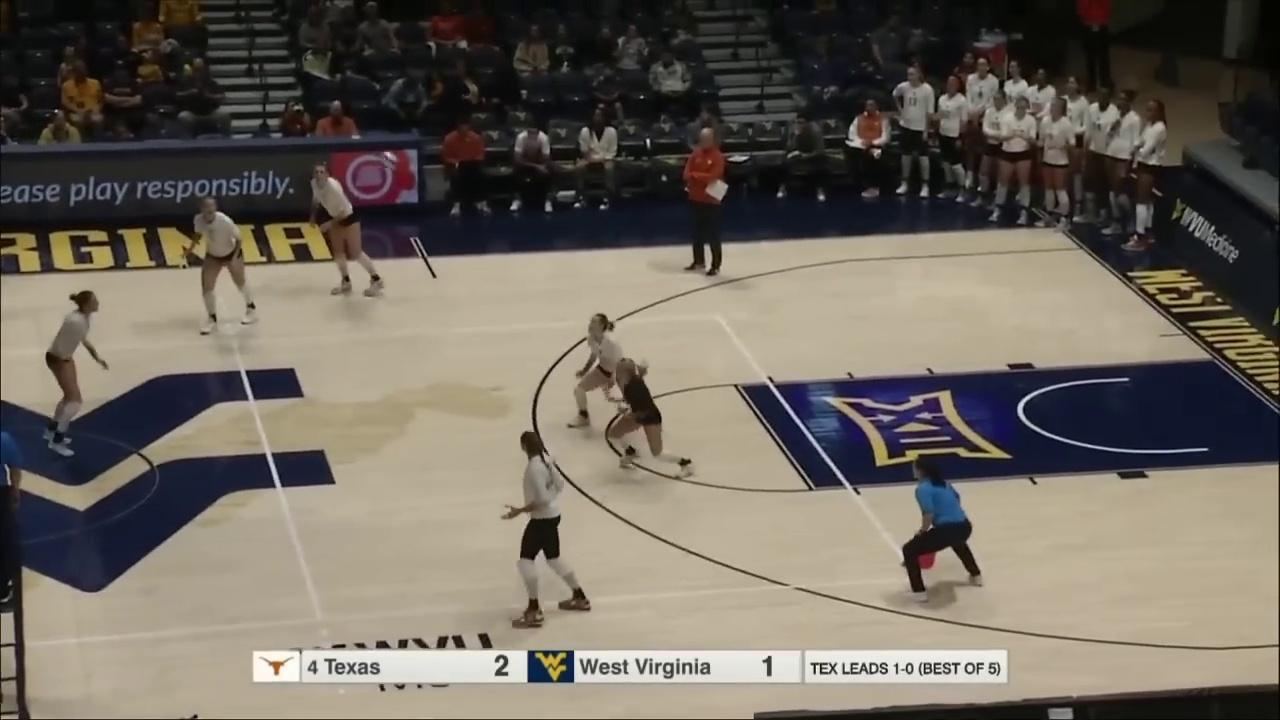player: (504, 429, 593, 625), (43, 291, 111, 454), (609, 357, 695, 477), (310, 163, 386, 297), (187, 199, 260, 332), (567, 313, 652, 426)
refree: (902, 459, 986, 601), (0, 409, 21, 604)
